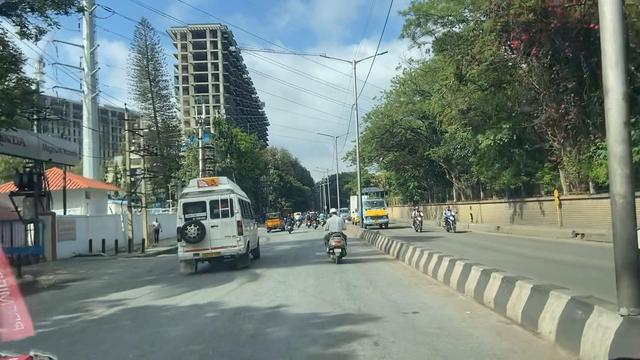HMV: (162, 168, 265, 268)
LMV: (315, 208, 351, 268)
